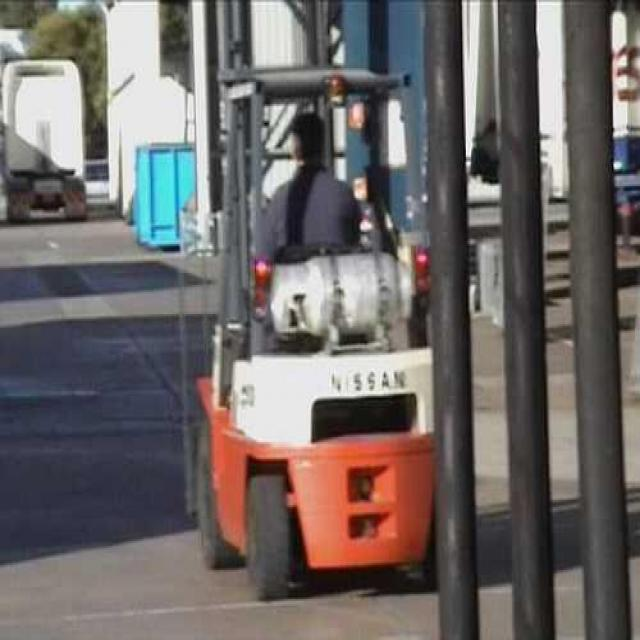Chariot elevateur: (193, 67, 456, 598)
